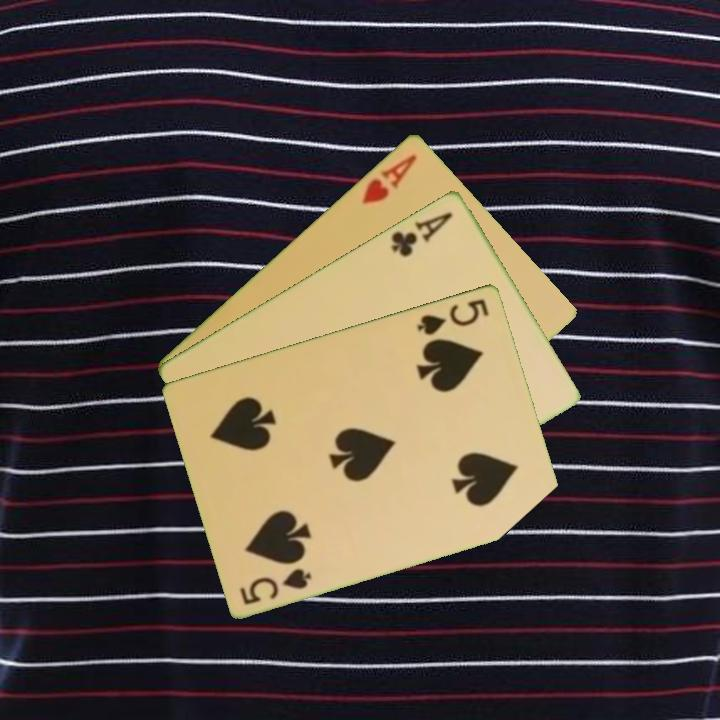5s: (236, 564, 315, 607), (414, 295, 492, 338)
Ac: (387, 208, 456, 260)
Ah: (358, 149, 420, 207)
